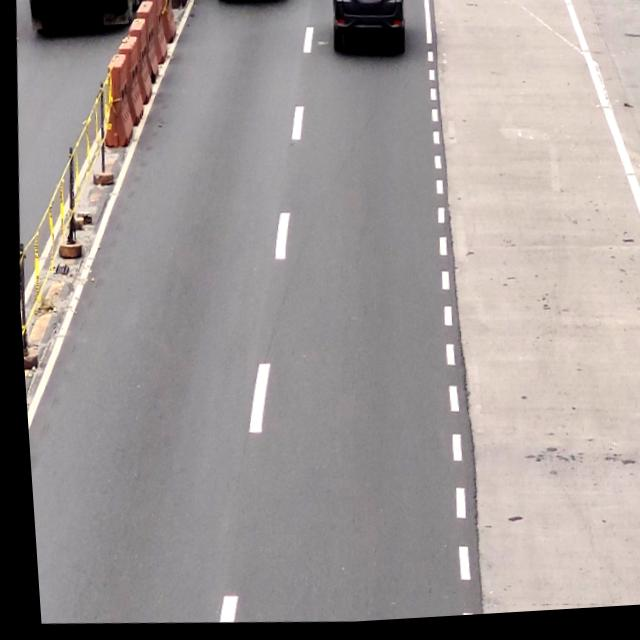Car: (327, 0, 409, 66)
License-Plate: (359, 0, 379, 4)
